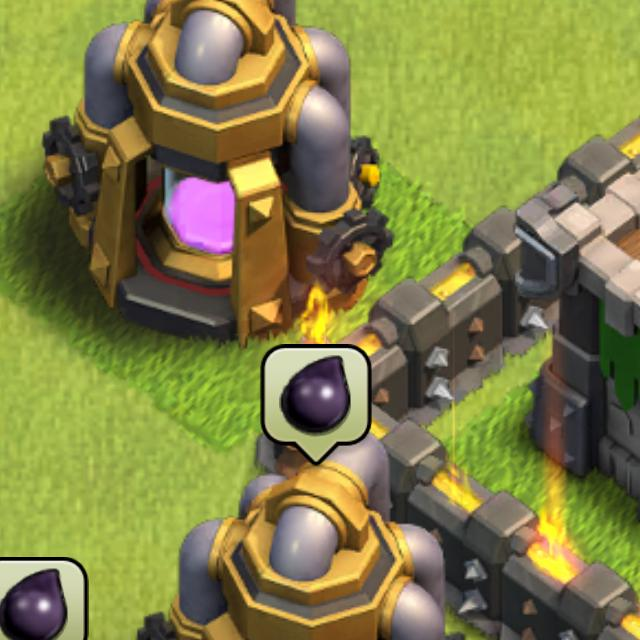ElixirNegro: (264, 347, 370, 464), (0, 558, 86, 640)
